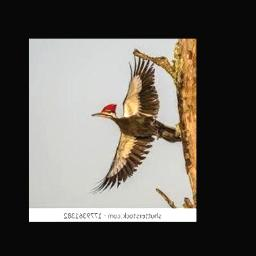Woodpecker: (89, 55, 183, 196)
